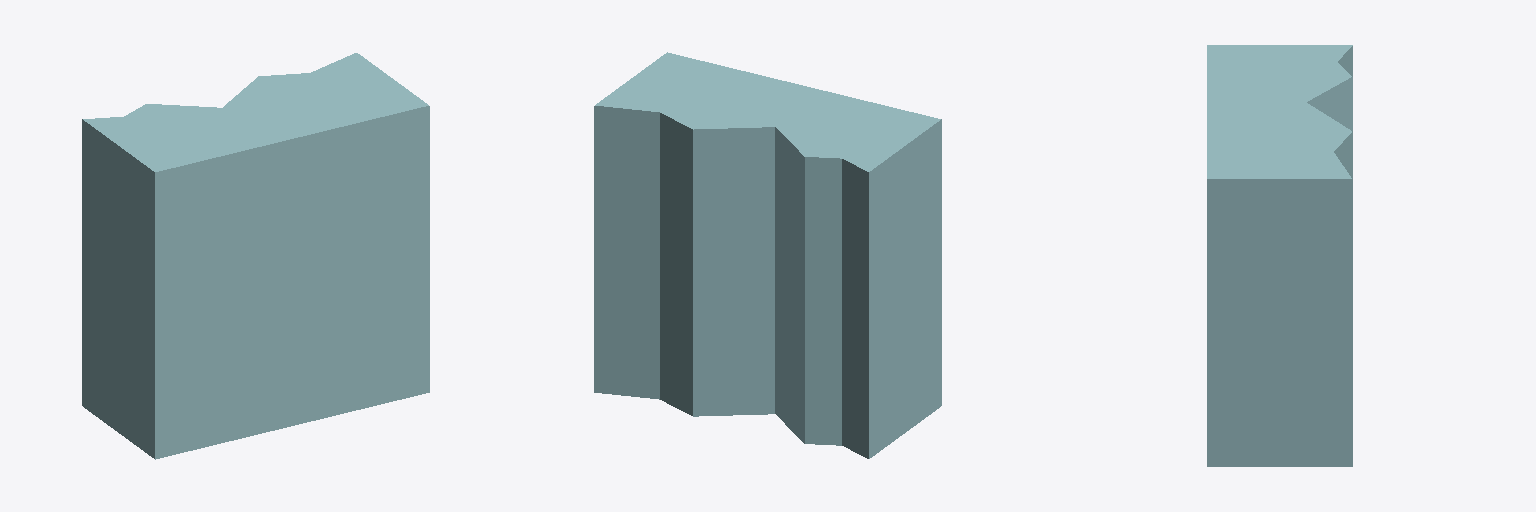
File: cliffGrey.obj
3 views of the same model, side by side, from view 1: azimuth 30°, elevation 25°; view 2: azimuth 150°, elevation 25°; view 3: azimuth 270°, elevation 25° (orthographic).
Parts seen in each view (by area): view 1: cliffGrey; view 2: cliffGrey; view 3: cliffGrey.
Part boxes in pixels (bbox=[...]): cliffGrey: bbox=[82, 53, 429, 459]; cliffGrey: bbox=[594, 52, 941, 458]; cliffGrey: bbox=[1207, 45, 1352, 466].
Size of the model in its own units: 10 by 10 by 4.58.